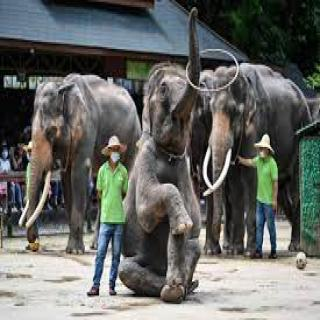Elephant: (114, 5, 205, 310), (198, 61, 320, 259), (20, 66, 120, 259)
